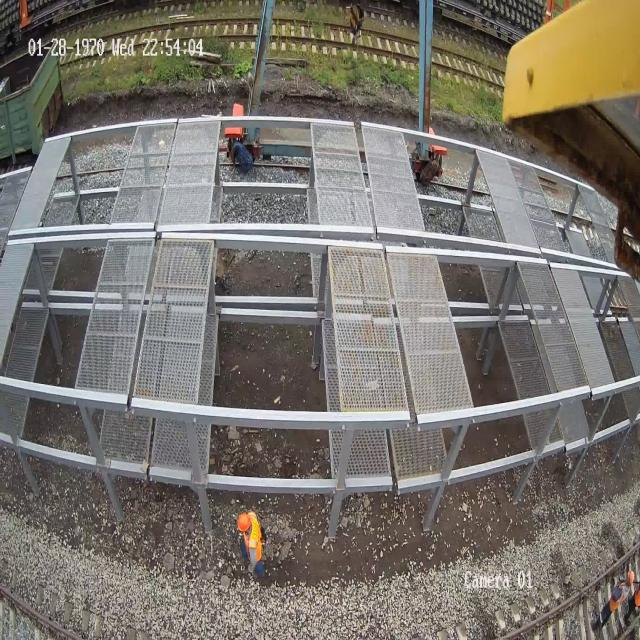Helmet: (237, 513, 251, 531), (628, 570, 634, 583)
Person: (587, 554, 640, 640), (237, 510, 265, 577)
